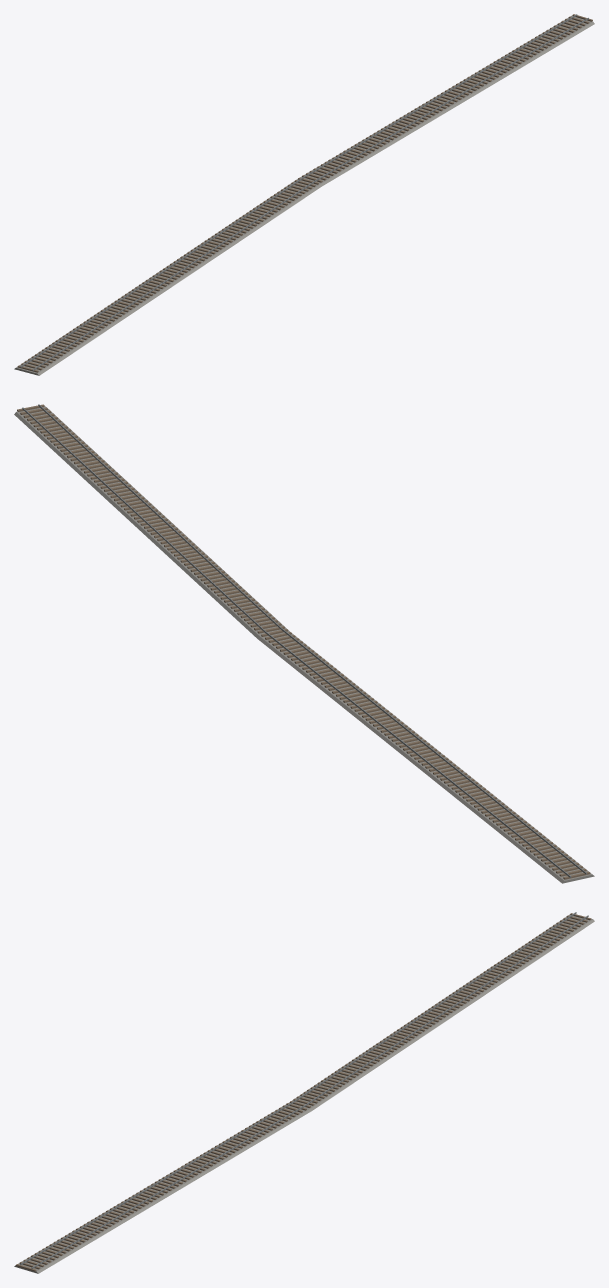
Rendered from rail_01202.glb.
3 renders of one model, top to bottom at view 1: azimuth 90°, elevation 25°; view 2: azimuth 150°, elevation 25°; view 3: azimuth 270°, elevation 25°, orthographic. The views are drawn at different scales.
Visible parts, largest first — view 1: Sleepers, Ballast, Rails; view 2: Sleepers, Ballast, Rails; view 3: Sleepers, Ballast, Rails.
Part boxes in pixels (left/top/right/bottom): Sleepers: left=17, top=14, right=592, bottom=372; Ballast: left=14, top=15, right=594, bottom=375; Rails: left=20, top=14, right=588, bottom=370; Sleepers: left=17, top=404, right=590, bottom=879; Ballast: left=14, top=406, right=594, bottom=883; Rails: left=22, top=404, right=586, bottom=877; Sleepers: left=16, top=913, right=591, bottom=1271; Ballast: left=14, top=914, right=594, bottom=1273; Rails: left=20, top=912, right=588, bottom=1268.
Bounding box in the file's own units: 85.15 × 0.48 × 58.2.
